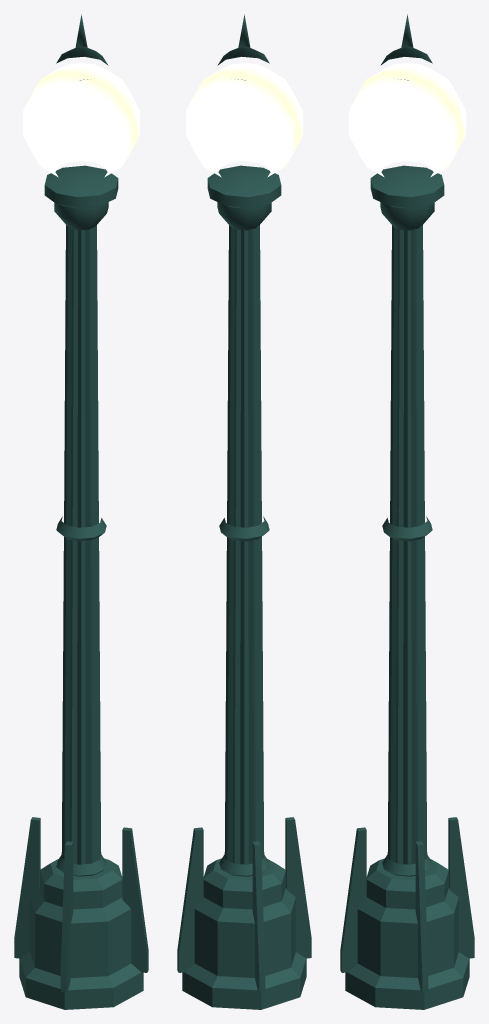
The model's file is lamp_deco.gltf.
3 renders of one model, left to right at view 1: azimuth 30°, elevation 25°; view 2: azimuth 150°, elevation 25°; view 3: azimuth 330°, elevation 25°, orthographic.
Parts seen in each view (by area): view 1: lamp_deco_body; view 2: lamp_deco_body; view 3: lamp_deco_body.
Part boxes in pixels (box(x1,y1,x2,y2)): lamp_deco_body: box(14, 14, 148, 1009); lamp_deco_body: box(177, 14, 311, 1009); lamp_deco_body: box(340, 14, 474, 1009).
Size of the model in its own units: 0.6 by 4.98 by 0.6.
